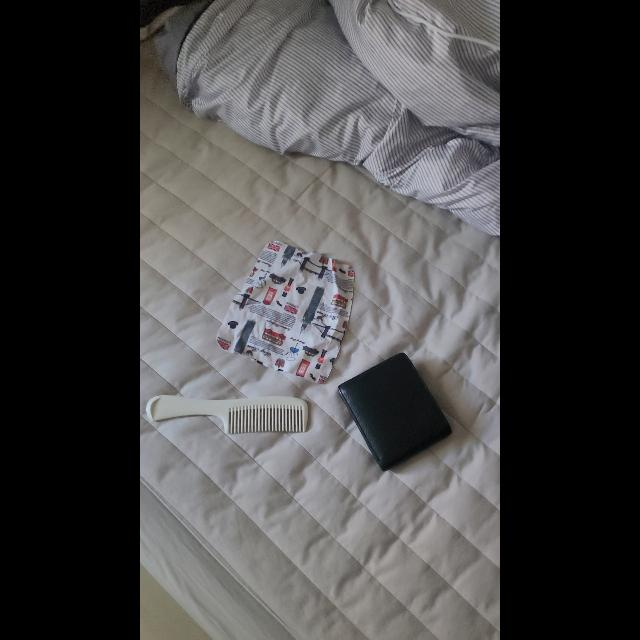COMB: (146, 396, 310, 436)
Glasses cleaning cloth: (217, 240, 356, 384)
WALLET: (338, 352, 452, 472)
